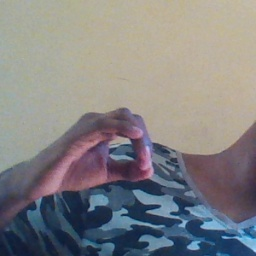O: (34, 102, 162, 195)
